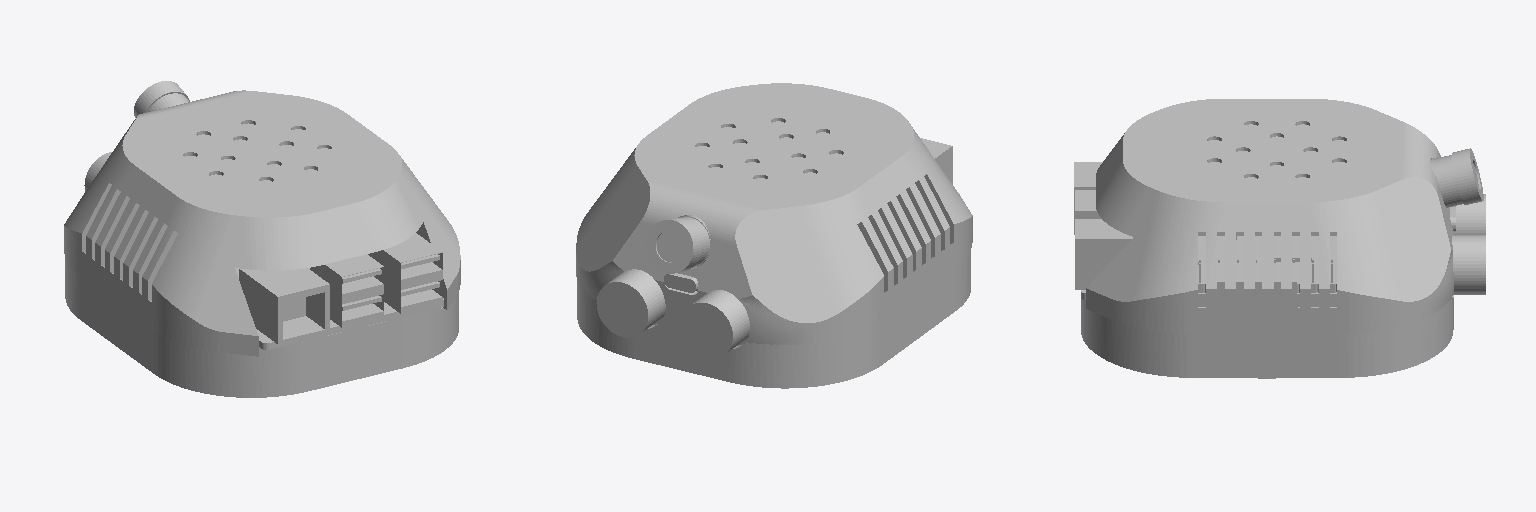
The model's file is Turret.obj.
3 views of the same model, side by side, from view 1: azimuth 30°, elevation 25°; view 2: azimuth 150°, elevation 25°; view 3: azimuth 270°, elevation 25° (orthographic).
Parts seen in each view (by area): view 1: Body Top, Body Bottom, Ethernet, USB 2, USB 1, Body1, Base; view 2: Body Top, Body Bottom, Body1, Sensor Right, Sensor Left, Body6, Body5, Body2, Ethernet; view 3: Body Top, Body Bottom, USB 2, Body1, Sensor Right, Base, Body1:3, Sensor Left, Ethernet, USB 1, GPIO.
Boxes of the visible parts, x1,y1,x2,y2 form: Body Top: [64, 90, 460, 356]; Body Bottom: [65, 258, 458, 397]; Ethernet: [239, 268, 329, 343]; USB 2: [369, 233, 442, 313]; USB 1: [310, 254, 383, 327]; Body1: [134, 81, 189, 117]; Base: [256, 268, 443, 349]; Body Top: [576, 83, 972, 344]; Body Bottom: [577, 251, 970, 388]; Body1: [646, 215, 710, 273]; Sensor Right: [596, 269, 665, 337]; Sensor Left: [681, 290, 749, 357]; Body6: [686, 308, 727, 352]; Body5: [601, 287, 643, 332]; Body2: [657, 231, 683, 261]; Ethernet: [920, 138, 952, 184]; Body Top: [1086, 99, 1453, 333]; Body Bottom: [1081, 295, 1453, 377]; USB 2: [1075, 219, 1132, 289]; Body1: [1430, 148, 1483, 207]; Sensor Right: [1452, 235, 1485, 294]; Base: [1081, 236, 1336, 299]; Body1:3: [1217, 263, 1296, 307]; Sensor Left: [1454, 194, 1485, 234]; Ethernet: [1074, 162, 1102, 234]; USB 1: [1075, 190, 1101, 218]; GPIO: [1198, 259, 1336, 292].
Size of the model in its own units: 0.0892 by 0.062 by 0.11.